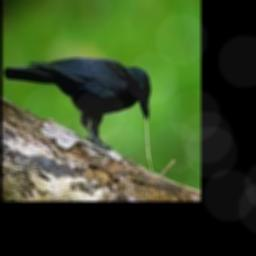Crow: (4, 57, 151, 149)
